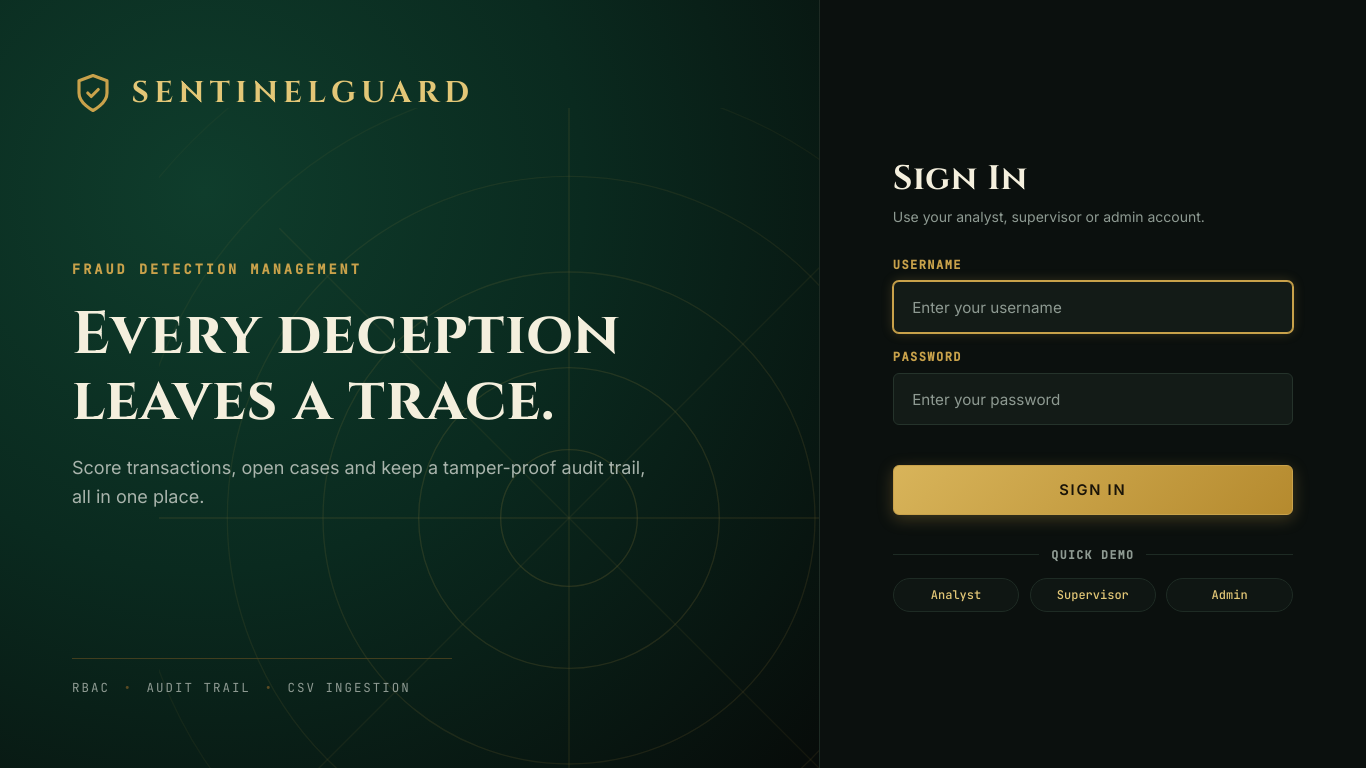
Test: LoginPage › shows an error message on wrong credentials
Note: Fill in incorrect credentials
In the field with placeholder "Enter your username": (1093, 307) [893,281,1293,333], type "wrong_analyst"
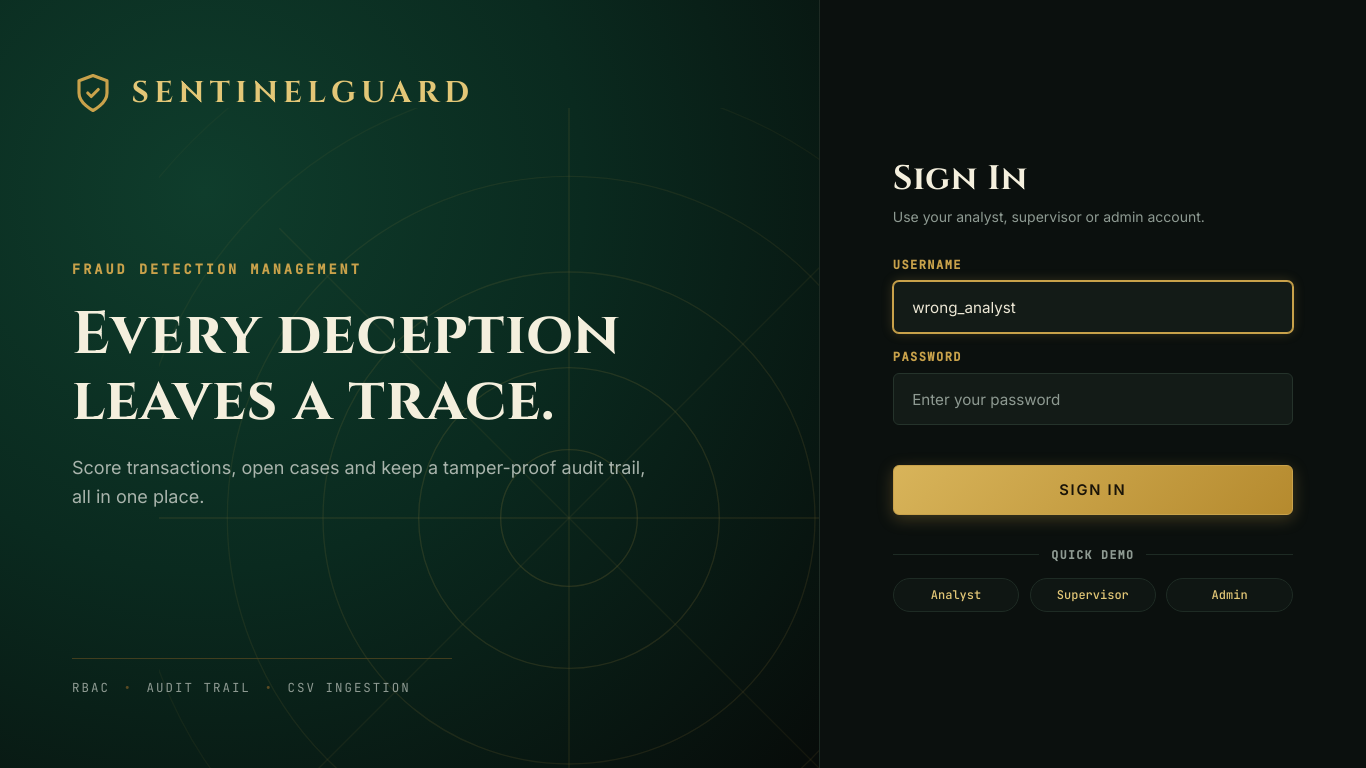
In the password field with placeholder "Enter your password": (1093, 399) [893,373,1293,425], type "bad_password"
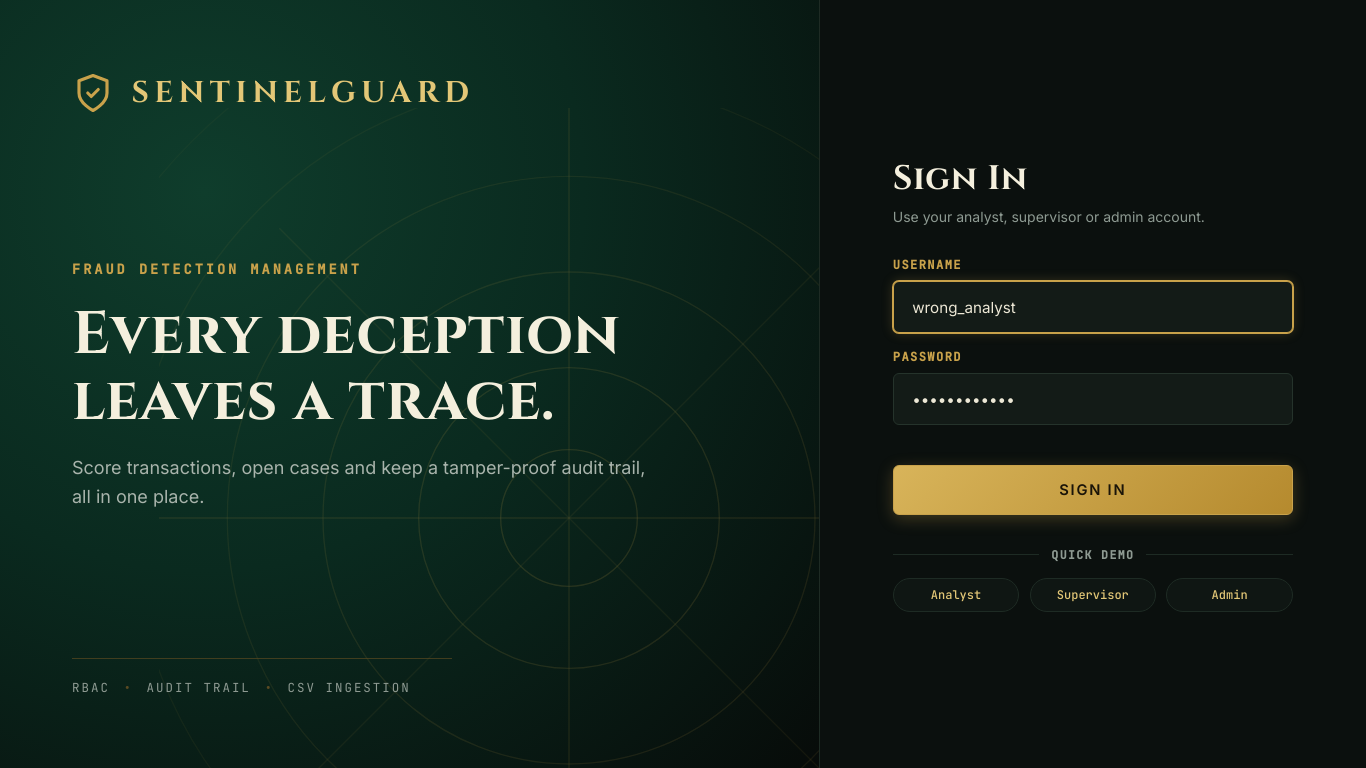
Note: Submit the form
Click the button with aria-label "sign in to dashboard": (1093, 490) [893,465,1293,515]
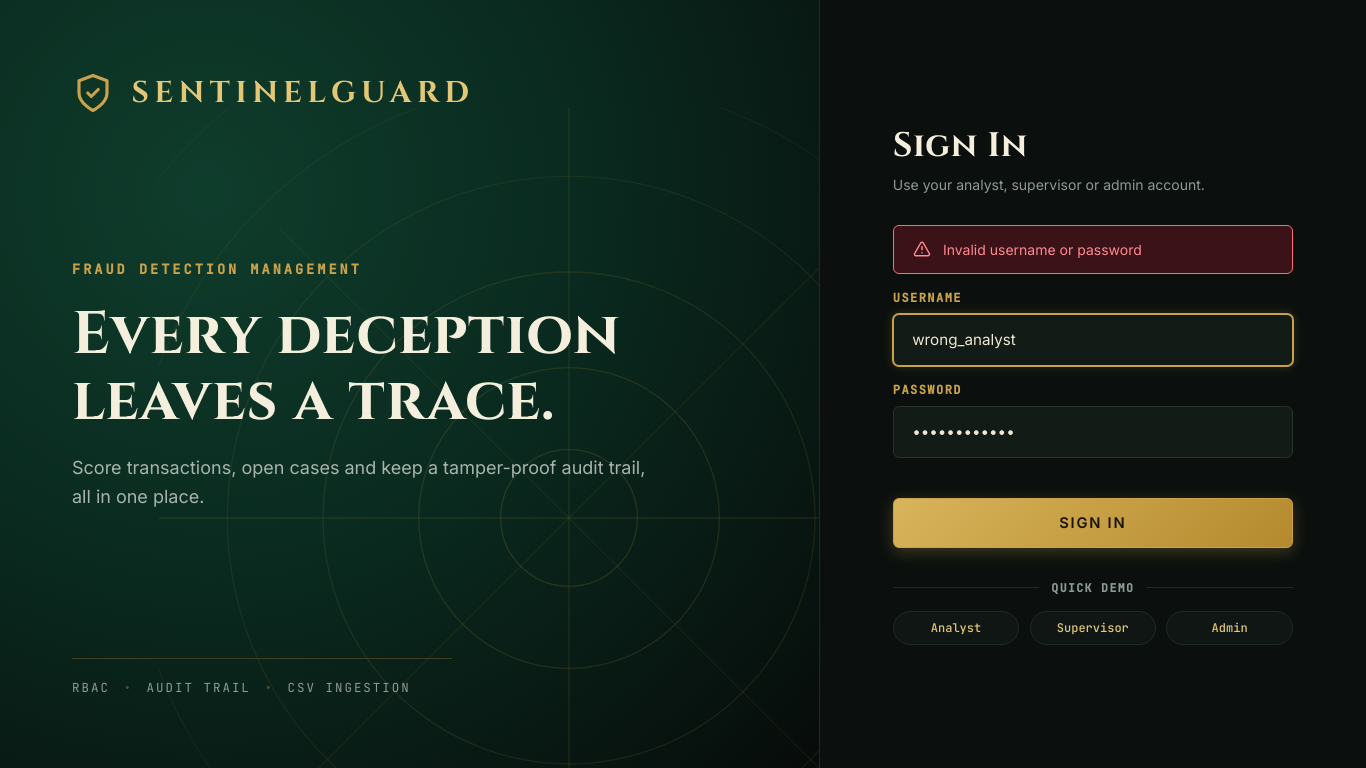
Expected: the text "Invalid username or password" is shown, [943,241,1142,258]
